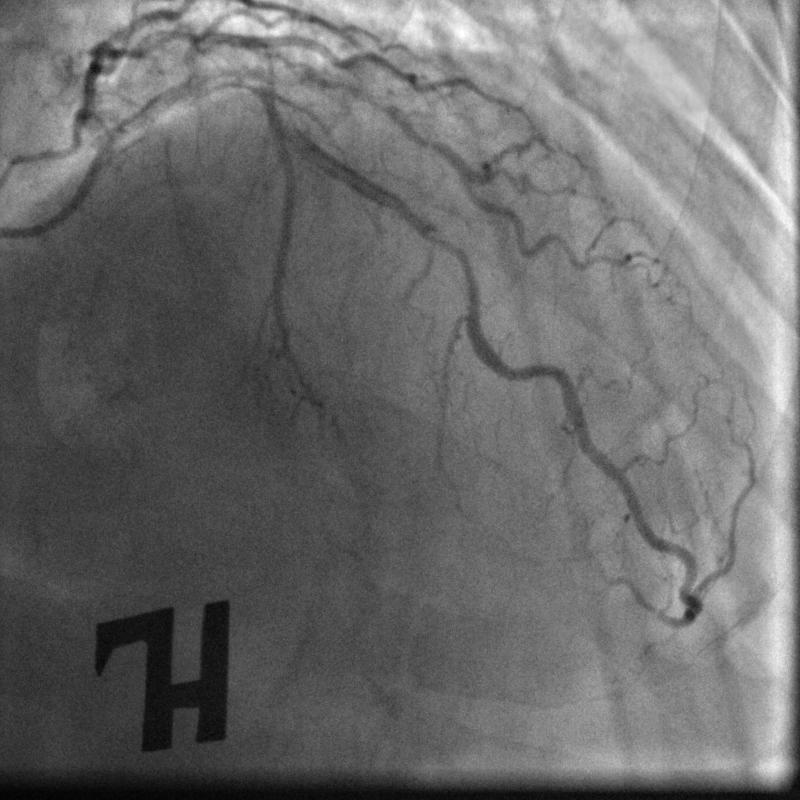Stenosis: (433, 229, 479, 304)
